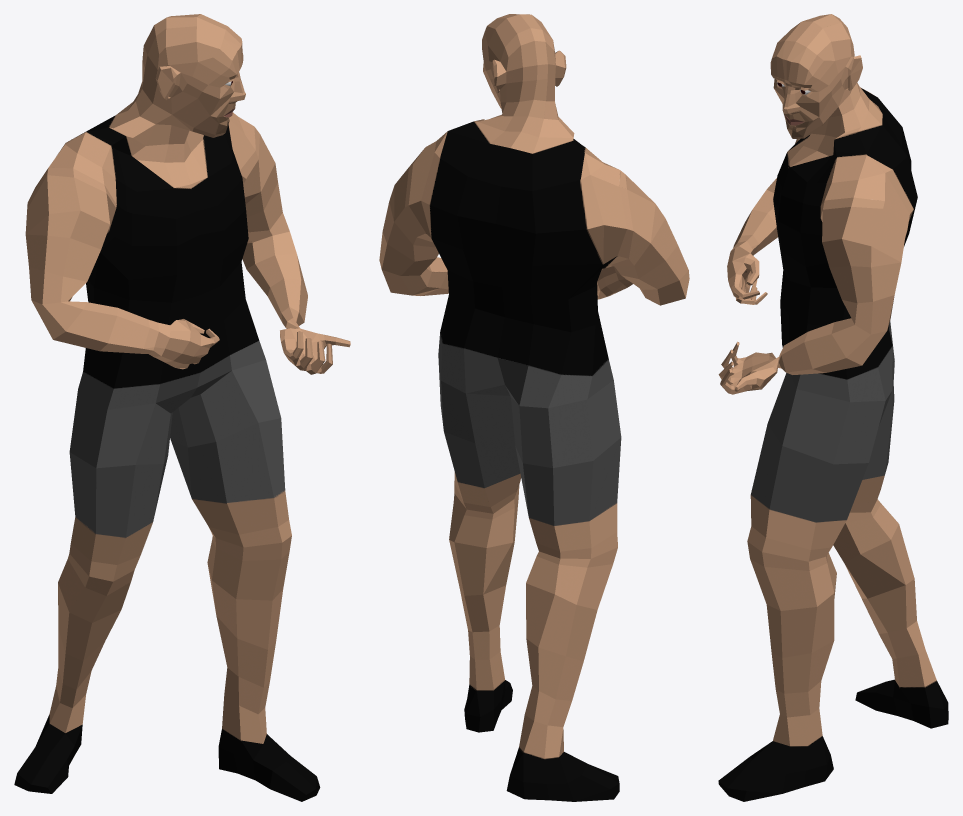
File: PlayerIdle(142).obj
3 renders of one model, left to right at view 1: azimuth 30°, elevation 25°; view 2: azimuth 150°, elevation 25°; view 3: azimuth 270°, elevation 25°, orthographic. The views are drawn at different scales.
Parts seen in each view (by area): view 1: Plane002; view 2: Plane002; view 3: Plane002.
Part boxes in pixels (x1=…): Plane002: x1=14, y1=14, x2=350, y2=801; Plane002: x1=379, y1=14, x2=689, y2=801; Plane002: x1=718, y1=14, x2=948, y2=801.
Size of the model in its own units: 701 by 1790 by 505.
